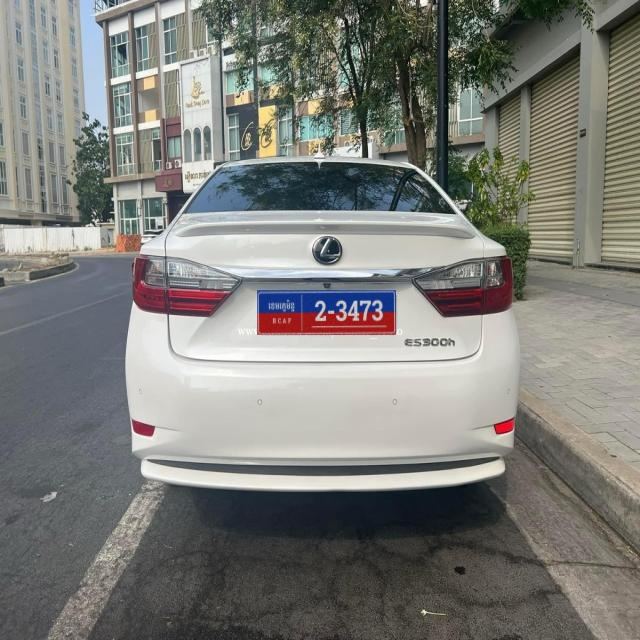Plate Number: (257, 290, 397, 336)
